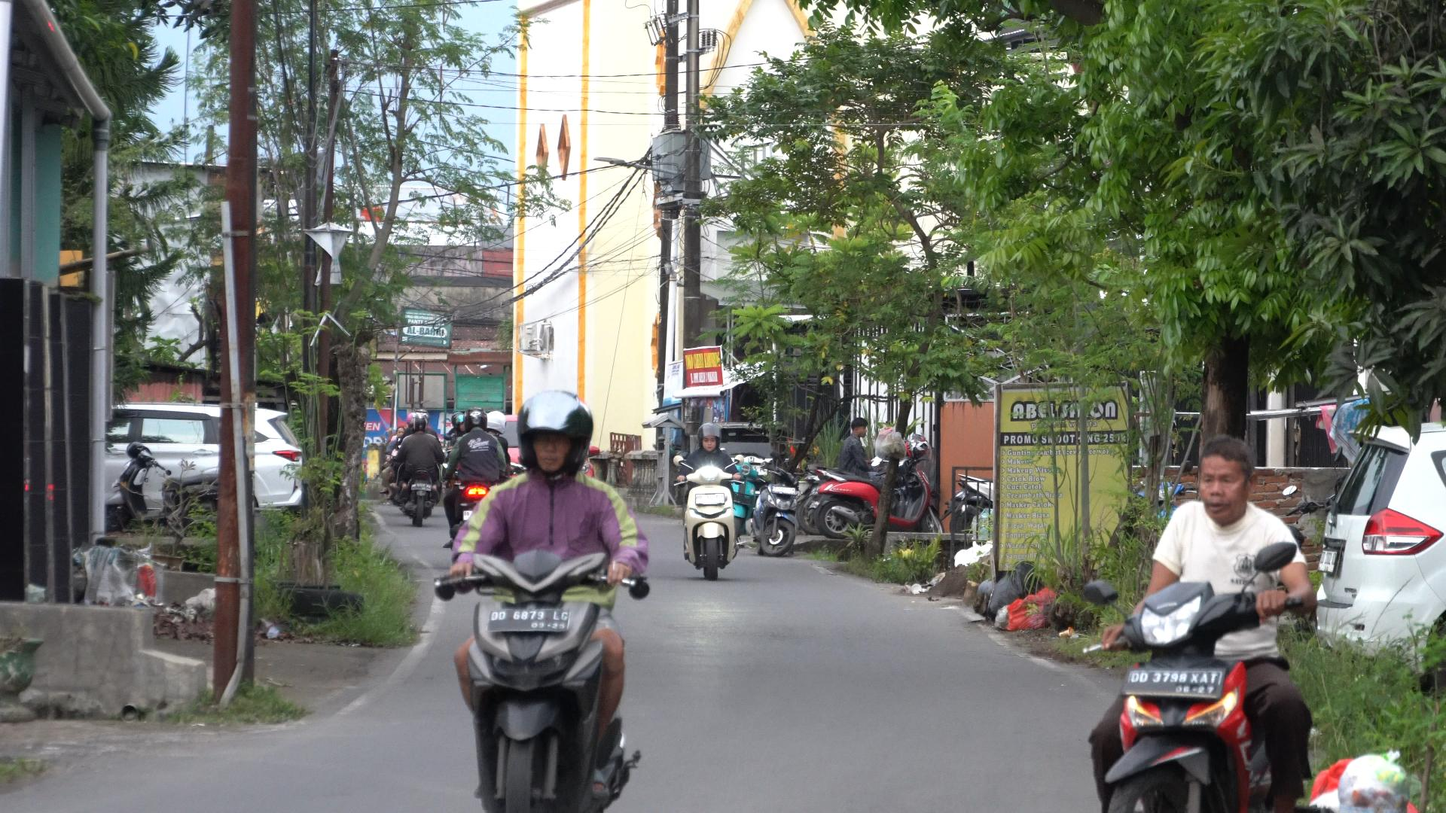number-plate: (1125, 667, 1226, 693), (487, 608, 572, 630)
